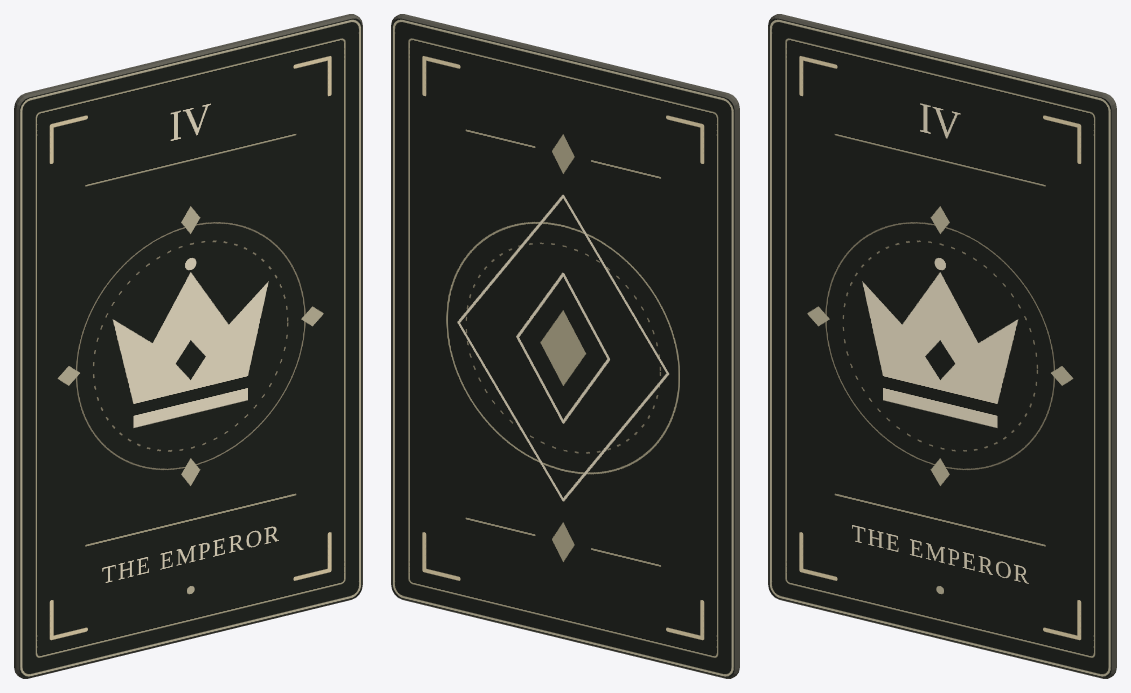
Rendered from emperor.glb.
3 views of the same model, side by side, from view 1: azimuth 30°, elevation 25°; view 2: azimuth 150°, elevation 25°; view 3: azimuth 330°, elevation 25° (orthographic).
Parts seen in each view (by area): view 1: emperor; view 2: emperor; view 3: emperor.
Boxes of the visible parts, x1,y1,x2,y2 form: emperor: [14, 14, 362, 678]; emperor: [391, 14, 739, 678]; emperor: [768, 14, 1116, 678].
Bounding box in the file's own units: 0.18 × 0.29 × 0.004.
Materials: 3 (2 with a texture image).
